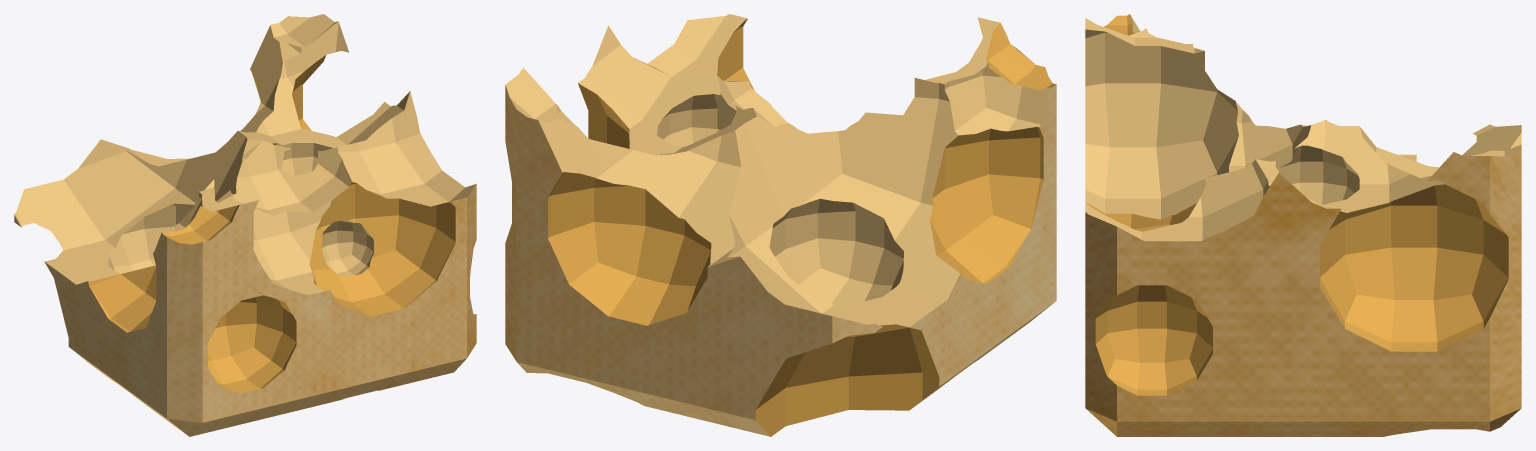
The model's file is cheese_stage3.fbx.
3 views of the same model, side by side, from view 1: azimuth 30°, elevation 25°; view 2: azimuth 150°, elevation 25°; view 3: azimuth 270°, elevation 25° (orthographic). The views are drawn at different scales.
Visible parts, largest first — view 1: Cheese; view 2: Cheese; view 3: Cheese.
Boxes of the visible parts, left/top/right/bottom form: Cheese: left=14, top=14, right=476, bottom=436; Cheese: left=505, top=14, right=1056, bottom=436; Cheese: left=1085, top=14, right=1521, bottom=436.
Bounding box in the file's own units: 553 × 553 × 418.
